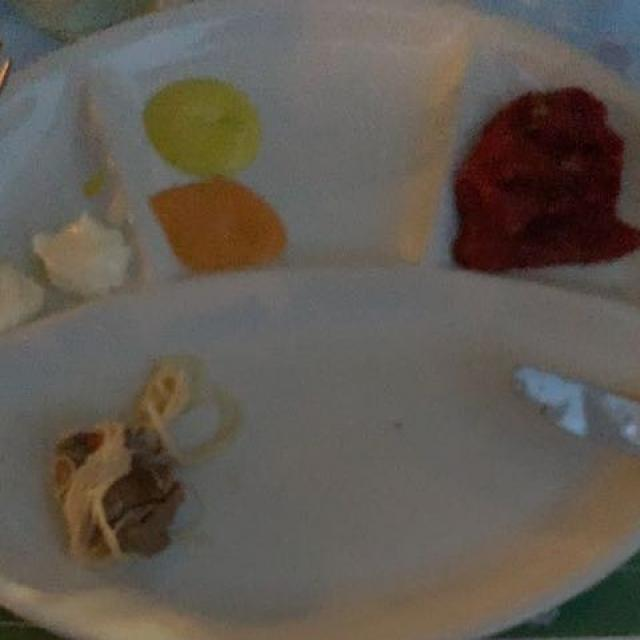mayonnaise: (1, 67, 260, 318)
mushrooms: (70, 429, 183, 546)
noodles: (52, 363, 231, 588)
sauce: (150, 171, 308, 269)
